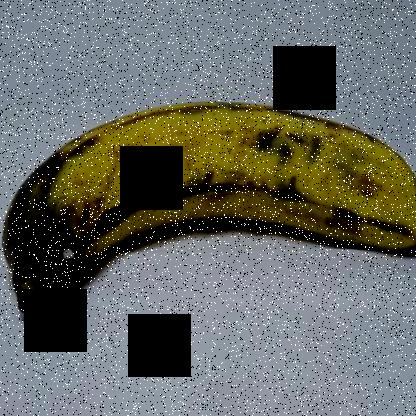overripe: (0, 82, 415, 318)
rotten: (0, 124, 126, 314)
